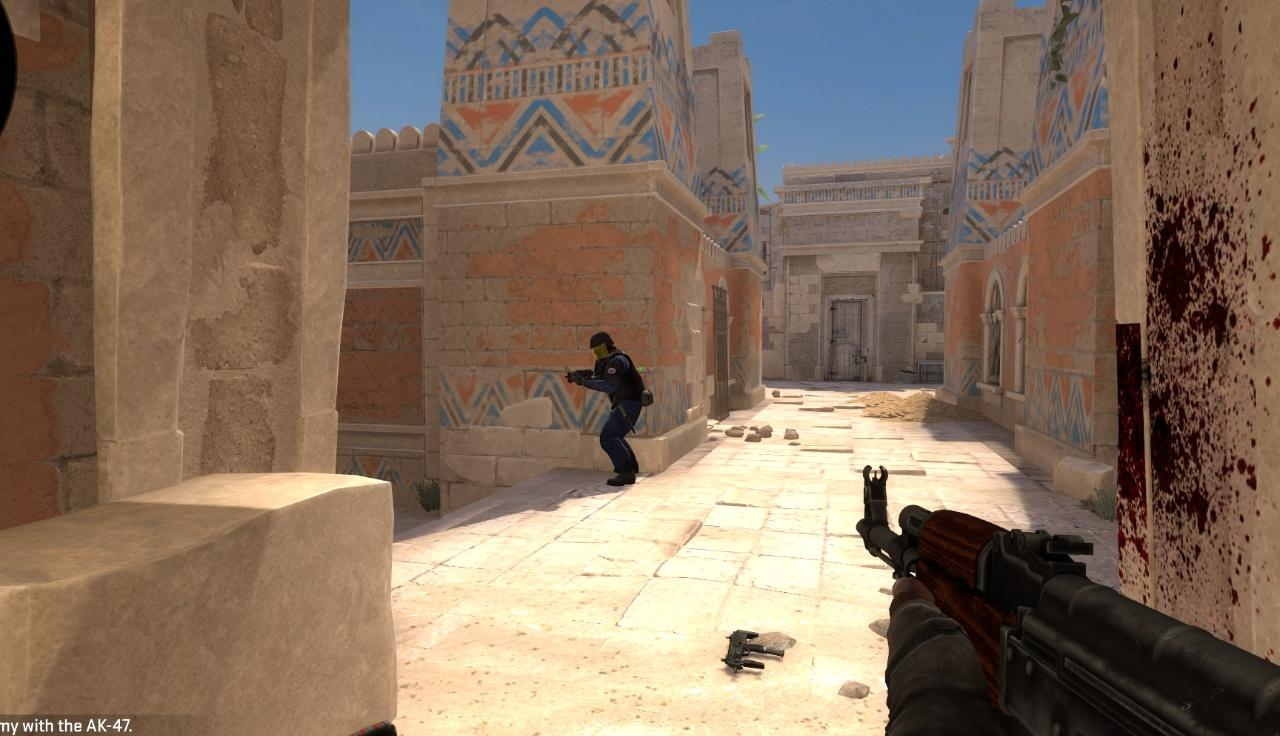ct: (588, 331, 641, 485)
cthead: (590, 332, 614, 358)
rifle: (855, 463, 1280, 736)
